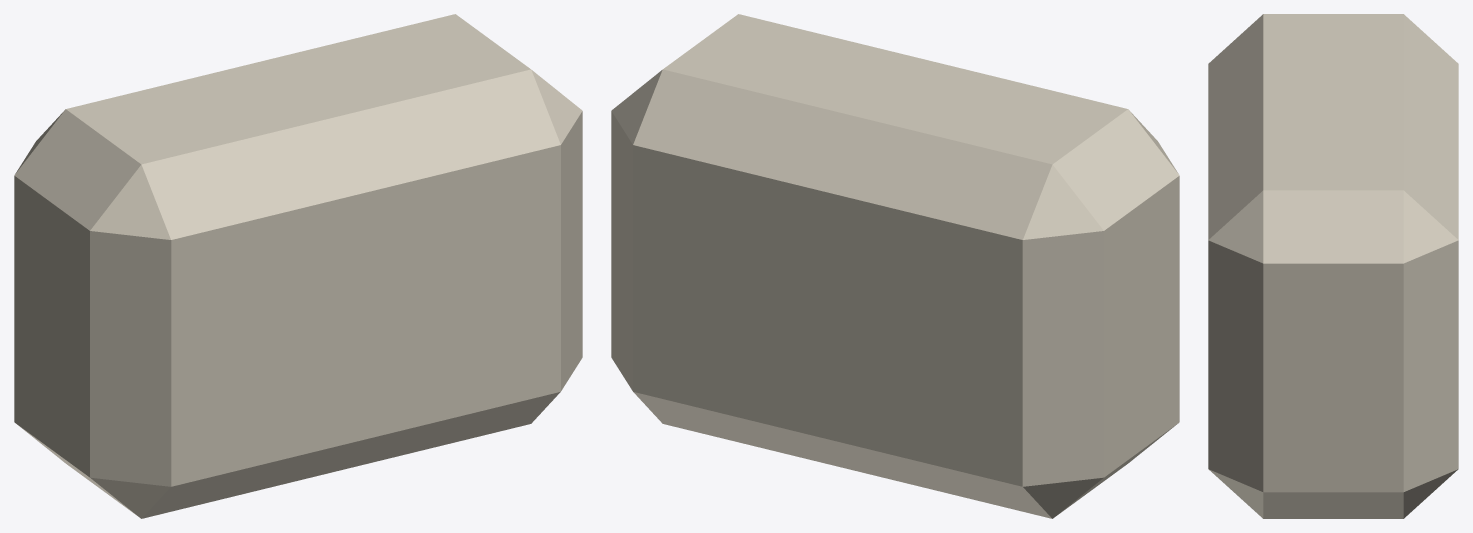
File: stuffing.glb
3 views of the same model, side by side, from view 1: azimuth 30°, elevation 25°; view 2: azimuth 150°, elevation 25°; view 3: azimuth 270°, elevation 25° (orthographic). The views are drawn at different scales.
Visible parts, largest first — view 1: stuffing; view 2: stuffing; view 3: stuffing.
Boxes of the visible parts, x1,y1,x2,y2 form: stuffing: [14, 14, 582, 518]; stuffing: [611, 14, 1179, 518]; stuffing: [1208, 14, 1458, 518].
Bounding box in the file's own units: 0.36 × 0.2475 × 0.171.
